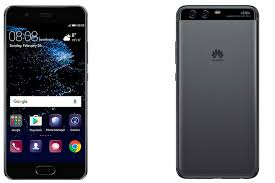huawei: (1, 2, 90, 181), (172, 2, 261, 181)
